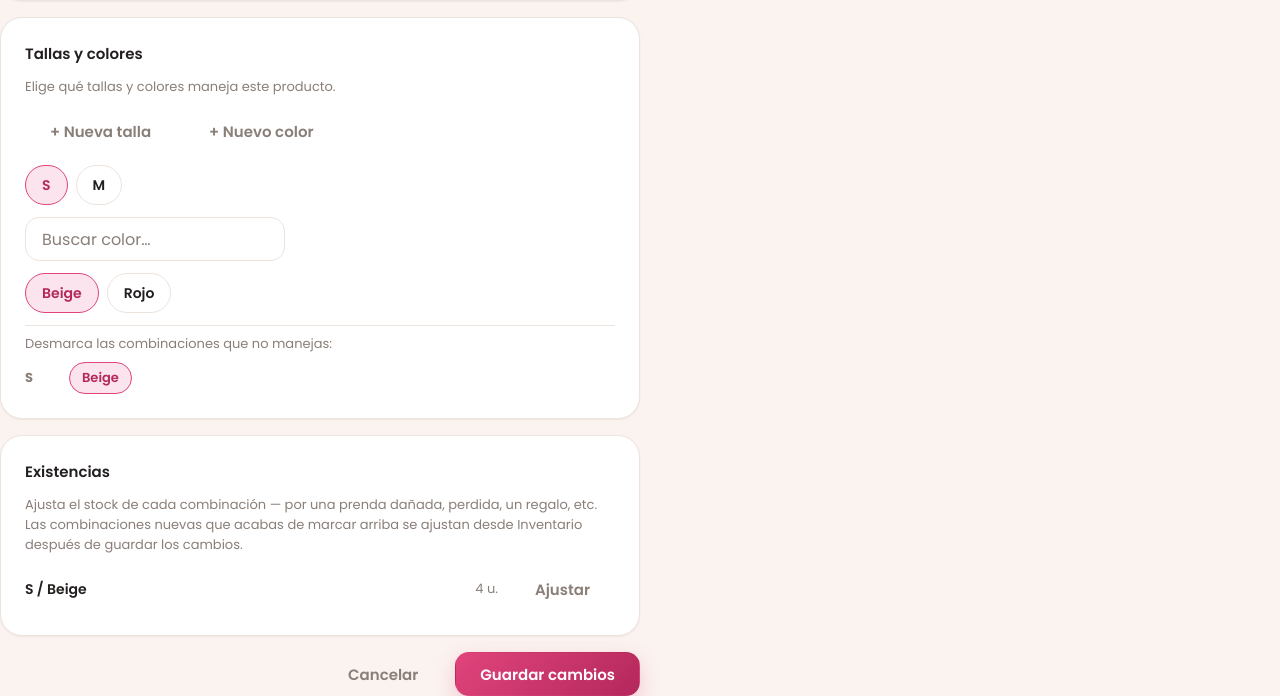
Test case: ProductFormPage (editar) › muestra las existencias actuales y permite ajustarlas con un motivo
(page scrolled)
Expected: the text "4 u." is shown, x1=475 y1=579 x2=498 y2=599
Click the button "Ajustar" at (562, 589), box x1=510 y1=567 x2=615 y2=611
(page scrolled)
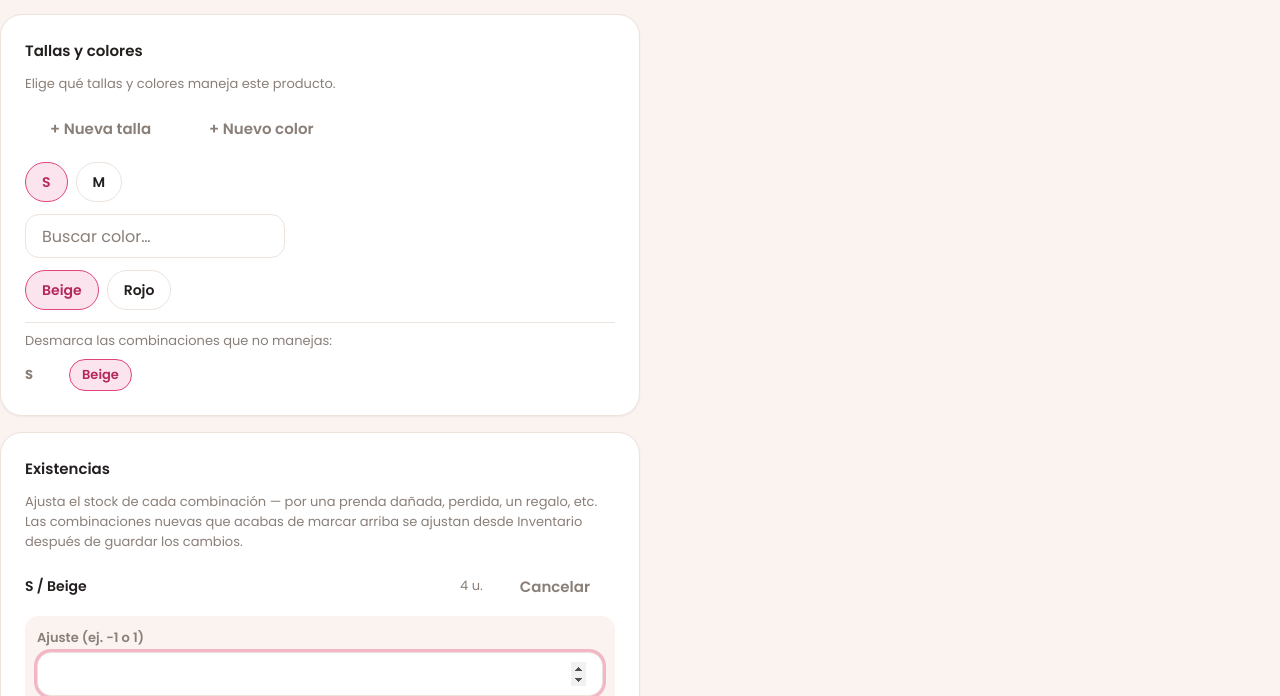
Type "-1" into the number field labelled "Ajuste (ej. -1 o 1)" at (320, 674), box x1=37 y1=652 x2=603 y2=695
(page scrolled)
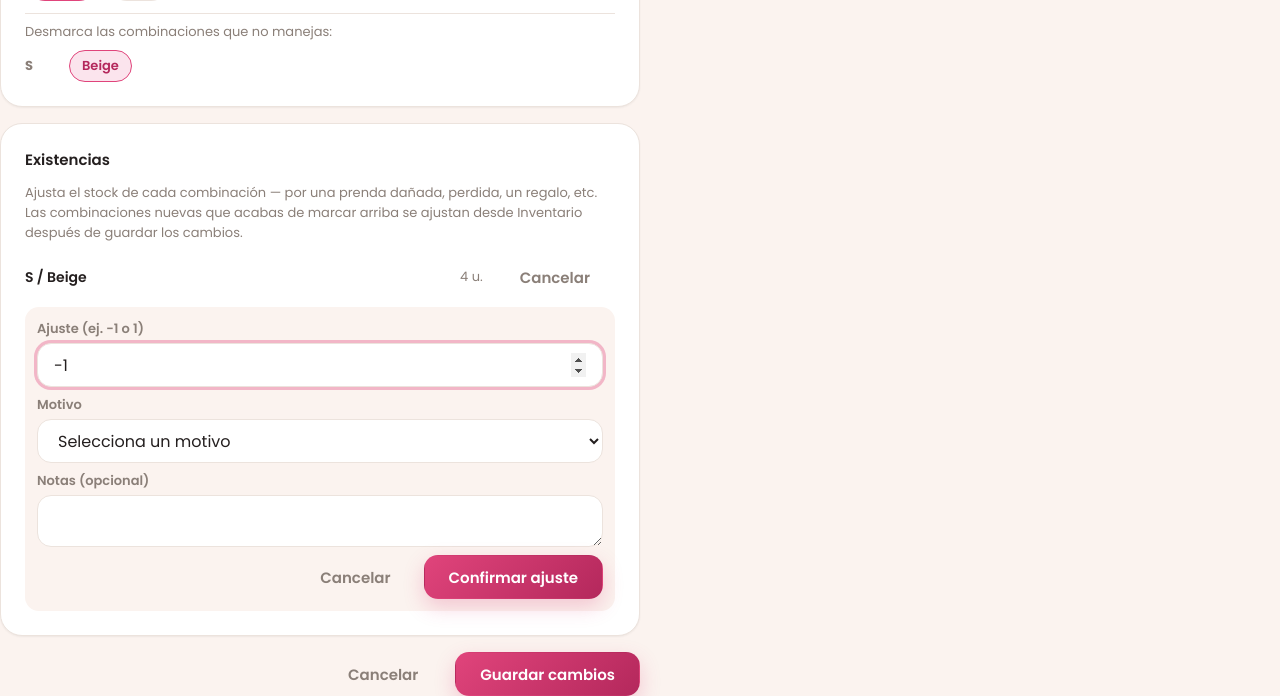
Select "Prenda perdida" in the dropdown labelled "Motivo" at (320, 441), box x1=37 y1=419 x2=603 y2=463
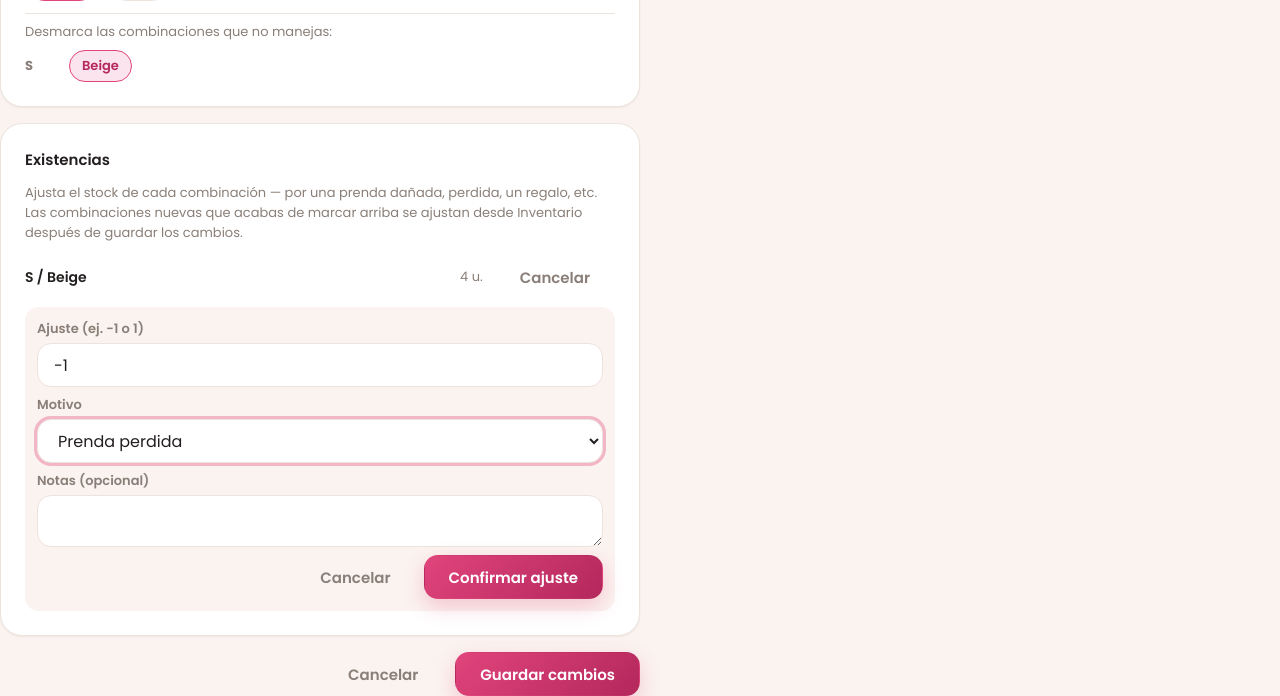
Click the button "Confirmar ajuste" at (513, 577), box x1=424 y1=555 x2=603 y2=599
(page scrolled)
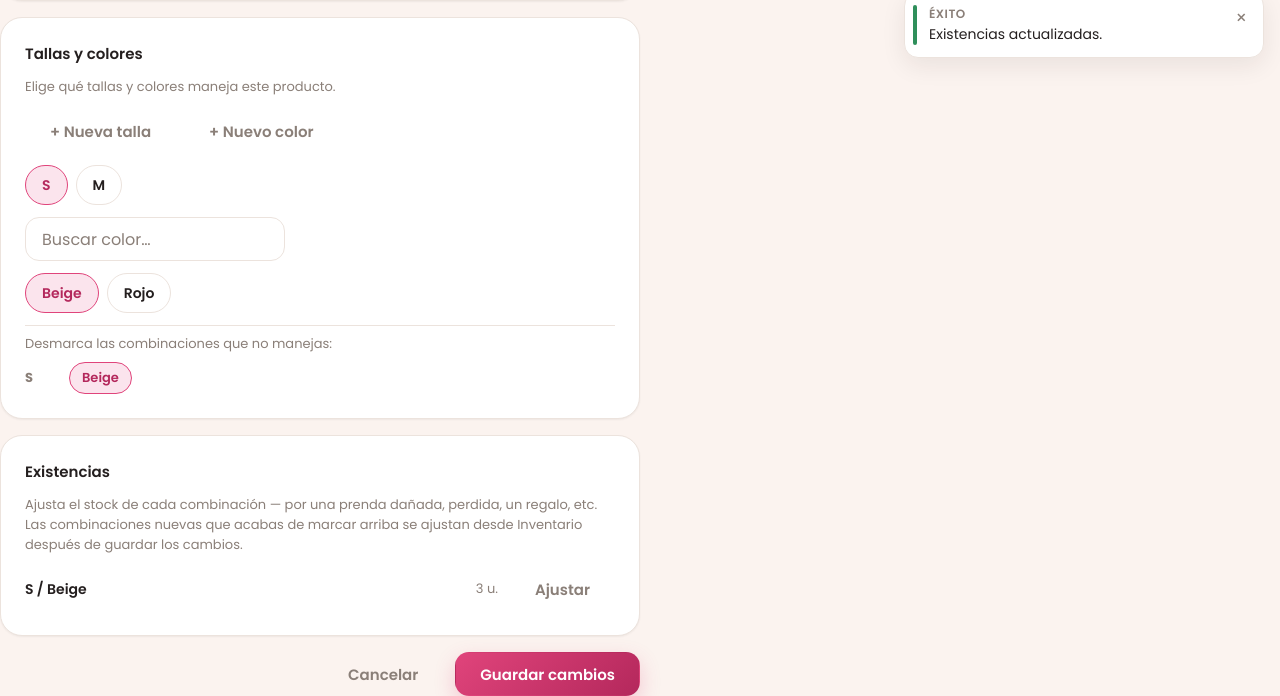
Result: the text "3 u." is shown at x1=476 y1=579 x2=498 y2=599
